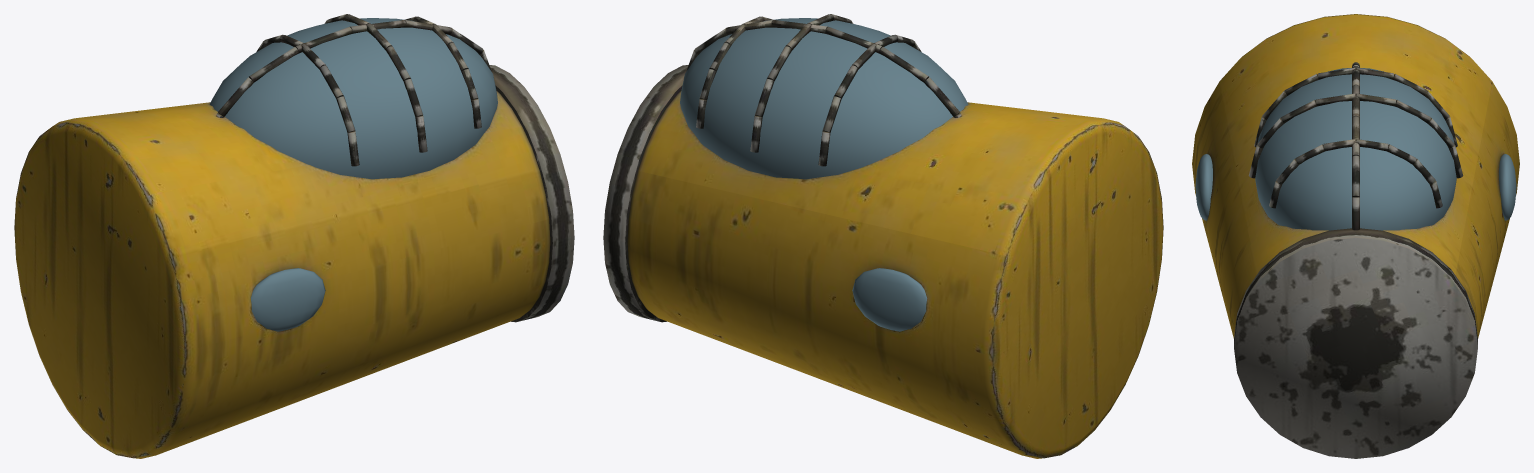
Rendered from turret_kit_tail_cabin_chequer.glb.
3 renders of one model, left to right at view 1: azimuth 30°, elevation 25°; view 2: azimuth 150°, elevation 25°; view 3: azimuth 270°, elevation 25°, orthographic. The views are drawn at different scales.
Parts seen in each view (by area): view 1: turret_tail_cabin; view 2: turret_tail_cabin; view 3: turret_tail_cabin.
Boxes of the visible parts, left/top/right/bottom form: turret_tail_cabin: left=14, top=14, right=574, bottom=458; turret_tail_cabin: left=603, top=14, right=1163, bottom=458; turret_tail_cabin: left=1192, top=14, right=1519, bottom=458.
Bounding box in the file's own units: 1.14 × 0.9506 × 0.8335.
Materials: 2 (1 with a texture image).
